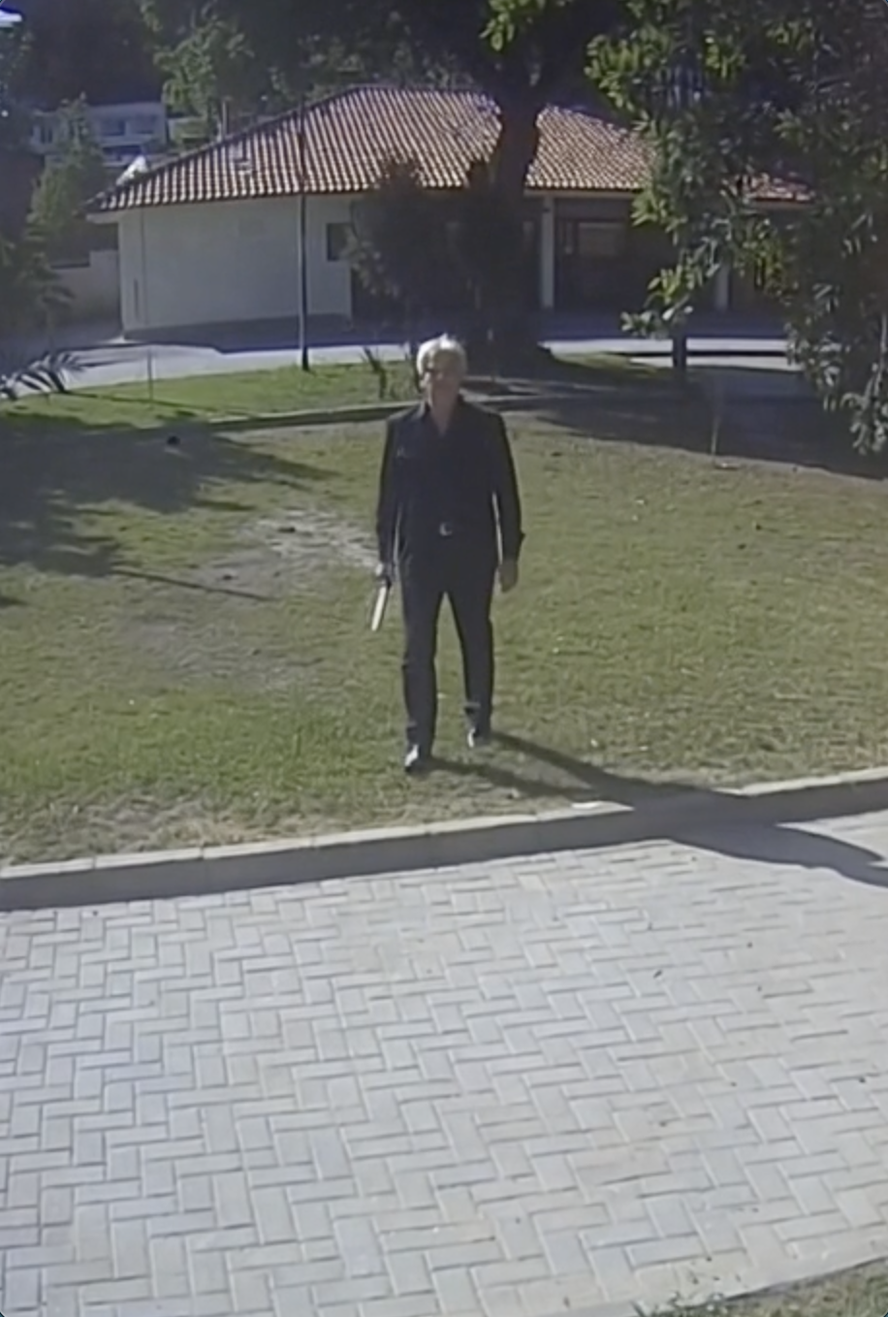Heavy Gun: (372, 336, 527, 777)
Knife: (353, 550, 406, 636)
